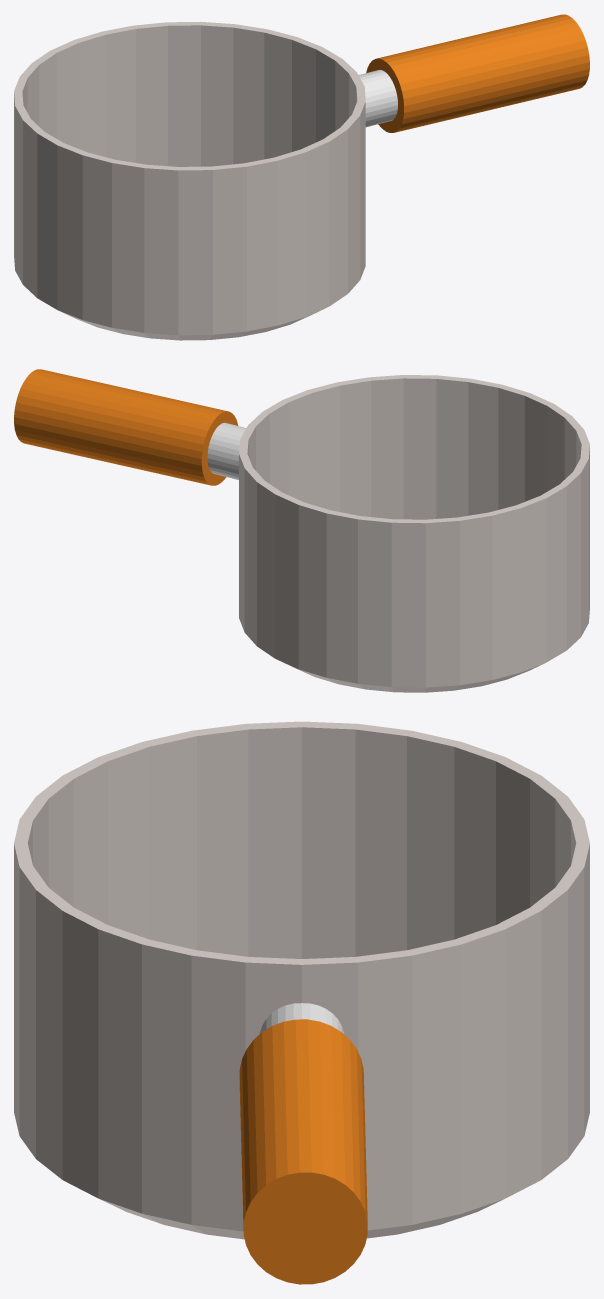
Rendered from PANCI.glb.
3 views of the same model, one above another, from view 1: azimuth 30°, elevation 25°; view 2: azimuth 150°, elevation 25°; view 3: azimuth 270°, elevation 25° (orthographic). The views are drawn at different scales.
Visible parts, largest first — view 1: Circle; view 2: Circle; view 3: Circle.
Part boxes in pixels (x1=…): Circle: x1=14, y1=14, x2=589, y2=340; Circle: x1=14, y1=369, x2=589, y2=692; Circle: x1=14, y1=721, x2=589, y2=1284.
Bounding box in the file's own units: 12.09 × 3.89 × 6.9.
